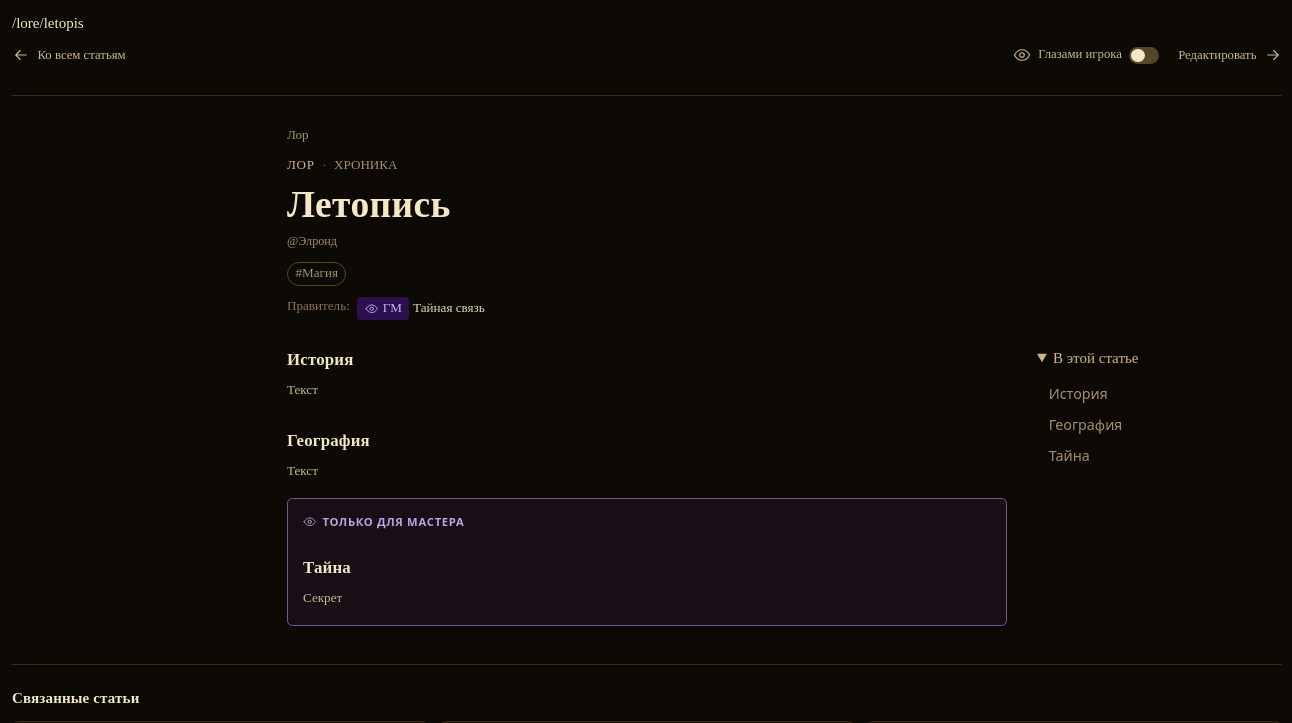
Test: Lore navigation and filters › links the article type badge to the lore filtered by that type
What coordinates should you click on to do the following:
click the link titled "Все статьи этого типа" next to "Хроника"
I would click on:
 (301, 165)
Its box is [287,156,315,174].
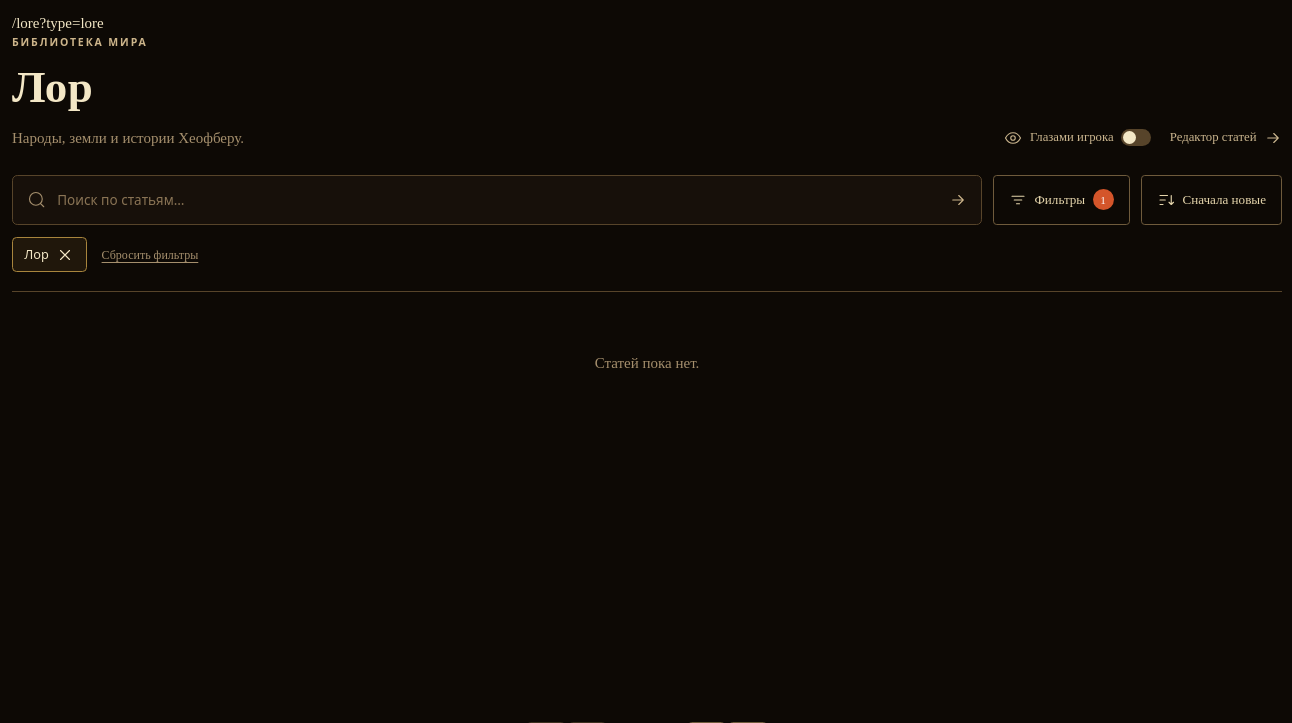
Check: the text with test id "location" reads "/lore?type=lore", box [12,15,104,31]
